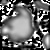node: (1, 6, 33, 43), (43, 34, 50, 49), (1, 1, 9, 5)
